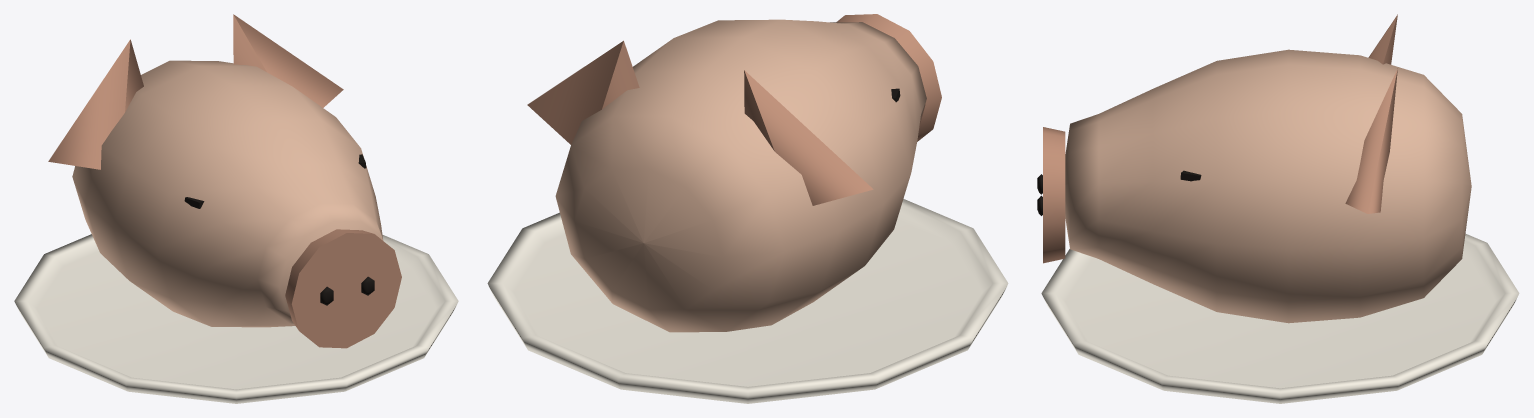
Rendered from SM_PigHead.glb.
The picture shows the model from 3 angles, left to right: view 1: azimuth 30°, elevation 25°; view 2: azimuth 150°, elevation 25°; view 3: azimuth 270°, elevation 25°; orthographic projection. The views are drawn at different scales.
Parts seen in each view (by area): view 1: SM_PigHead_Mass, SM_PigHead_Plate, SM_PigHead_Snout, SM_PigHead_Ear_L, SM_PigHead_Ear_R; view 2: SM_PigHead_Mass, SM_PigHead_Plate, SM_PigHead_Ear_L, SM_PigHead_Ear_R, SM_PigHead_Snout; view 3: SM_PigHead_Mass, SM_PigHead_Plate, SM_PigHead_Ear_R, SM_PigHead_Snout, SM_PigHead_Ear_L.
Boxes of the visible parts, x1,y1,x2,y2 form: SM_PigHead_Mass: [72, 60, 383, 327]; SM_PigHead_Plate: [14, 234, 458, 403]; SM_PigHead_Snout: [285, 229, 401, 348]; SM_PigHead_Ear_L: [48, 39, 143, 169]; SM_PigHead_Ear_R: [233, 14, 343, 107]; SM_PigHead_Mass: [555, 19, 926, 332]; SM_PigHead_Plate: [487, 199, 1008, 403]; SM_PigHead_Ear_L: [744, 70, 873, 205]; SM_PigHead_Ear_R: [527, 40, 639, 144]; SM_PigHead_Snout: [836, 14, 941, 141]; SM_PigHead_Mass: [1065, 49, 1471, 323]; SM_PigHead_Plate: [1041, 233, 1519, 403]; SM_PigHead_Ear_R: [1345, 68, 1397, 213]; SM_PigHead_Snout: [1043, 127, 1065, 263]; SM_PigHead_Ear_L: [1368, 14, 1397, 64].
Bounding box in the file's own units: 0.3 × 0.1895 × 0.3025.
